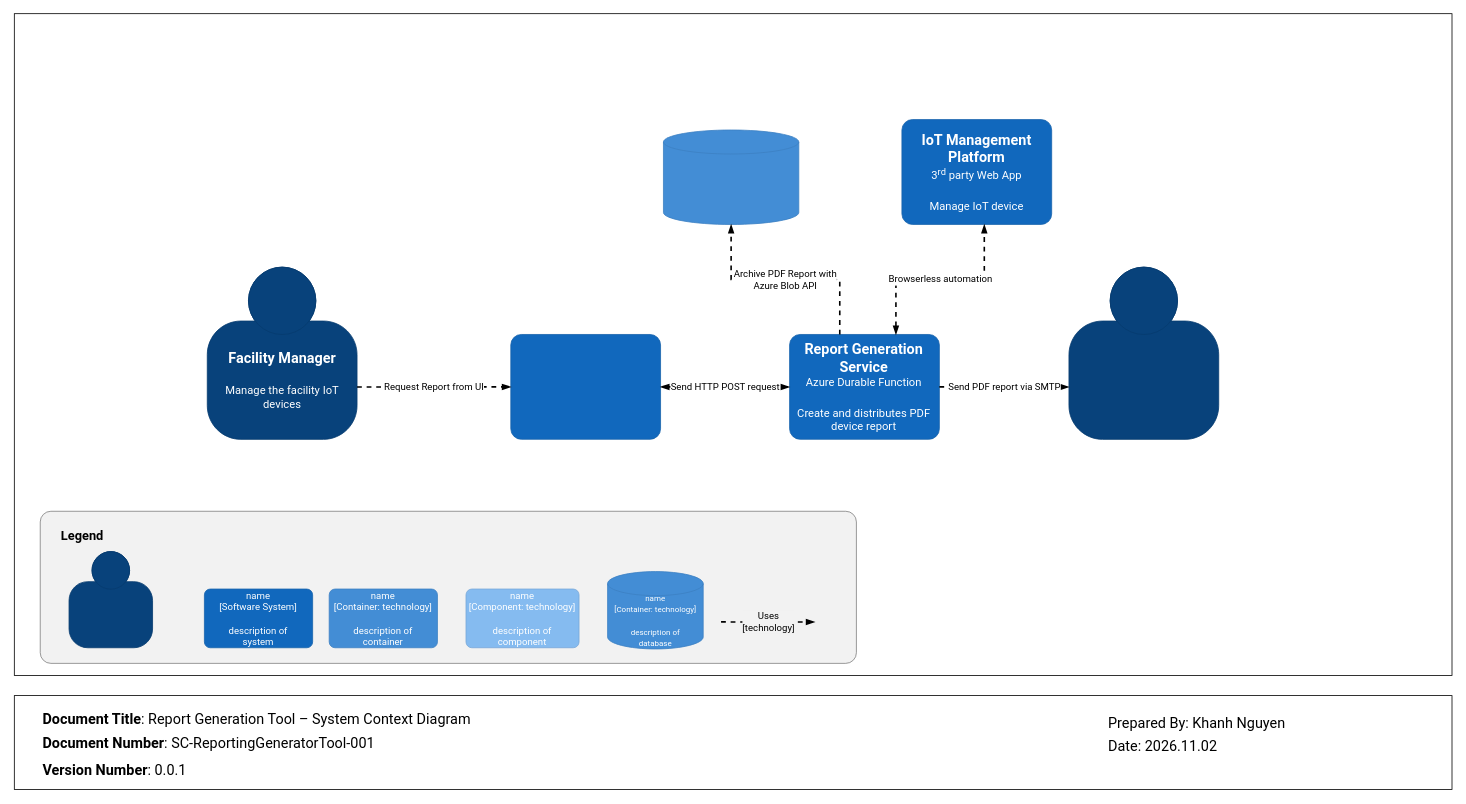
Some shapes in this 1466 by 804 pixel diagram are drawn without their labels. Each missing label, with the centre of its shape:
Facility Management Platform Azure Web App Manage report requests: (x=585, y=386)
name [Person] description of the person: (x=110, y=599)
Report Archive Azure Blob Storage Store generated PDF reports: (x=731, y=176)
Report Recipient Reviews completed reports: (x=1143, y=352)
